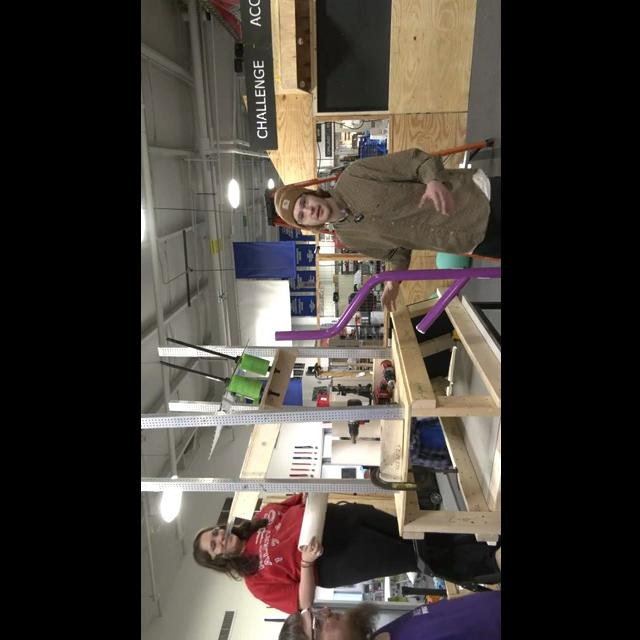CORAL: (295, 492, 327, 552), (330, 440, 380, 466)
